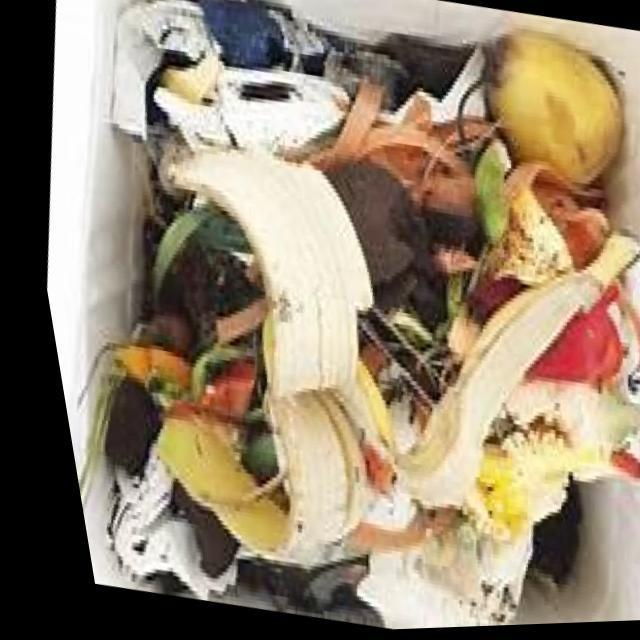Garbage: (57, 0, 640, 632)
